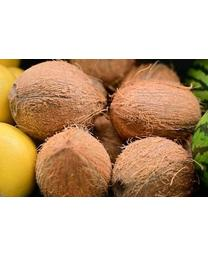coconut: (8, 61, 106, 138), (111, 79, 202, 141), (37, 126, 112, 195), (112, 136, 195, 195)
